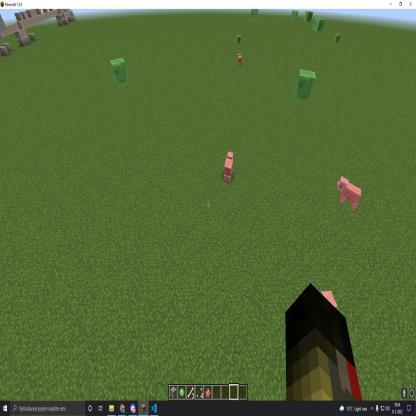pig: (334, 168, 366, 221), (219, 144, 240, 192), (236, 51, 246, 70)
